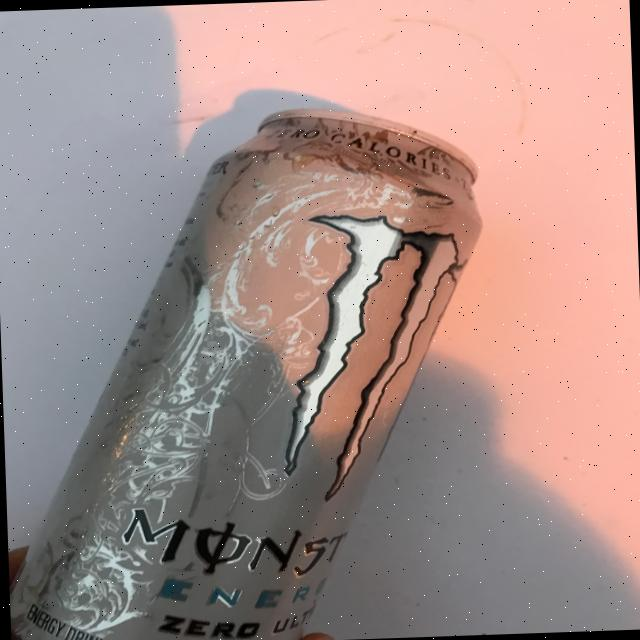metal: (0, 100, 498, 640)
